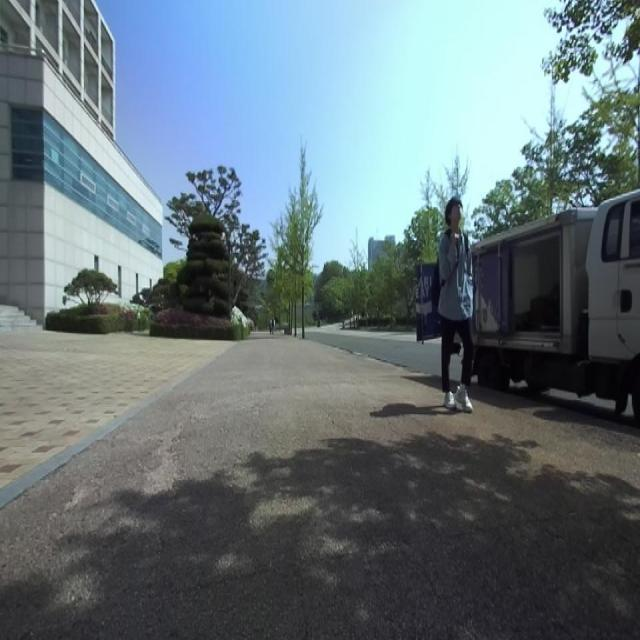sidewalk: (0, 334, 640, 639), (0, 356, 218, 508)
